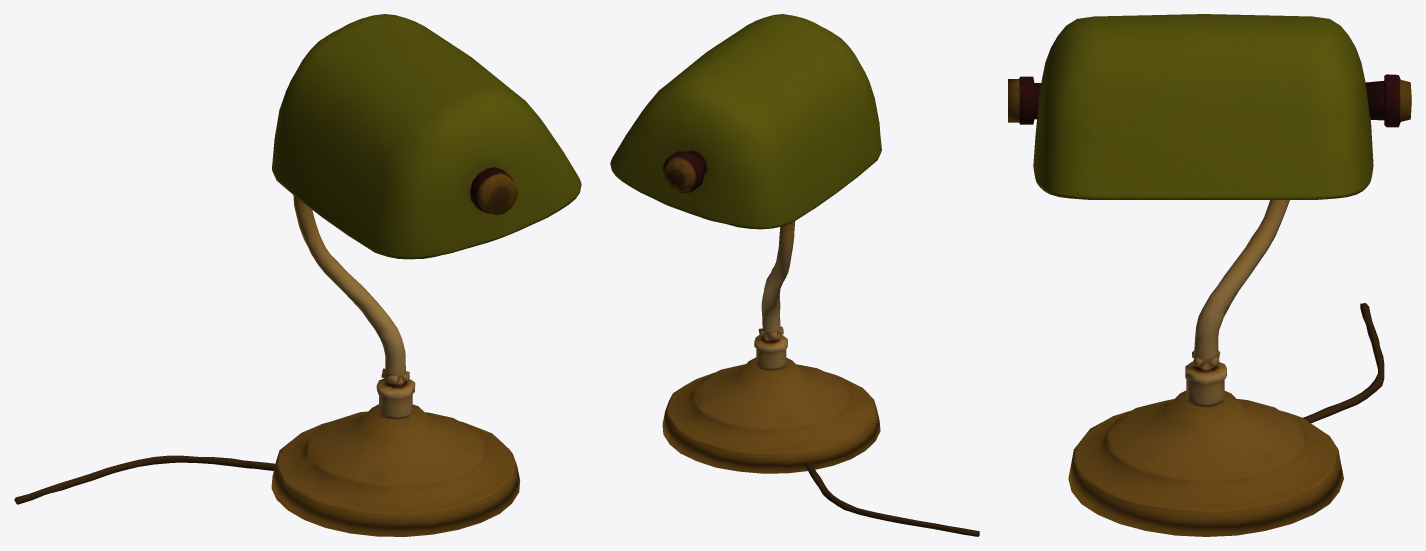
The model's file is desk-lamp.obj.
The picture shows the model from 3 angles, left to right: view 1: azimuth 30°, elevation 25°; view 2: azimuth 150°, elevation 25°; view 3: azimuth 270°, elevation 25°; orthographic projection. The views are drawn at different scales.
Bounding box in the file's own units: 0.4862 × 0.45 × 0.3511.
1 material, 1 textured.
